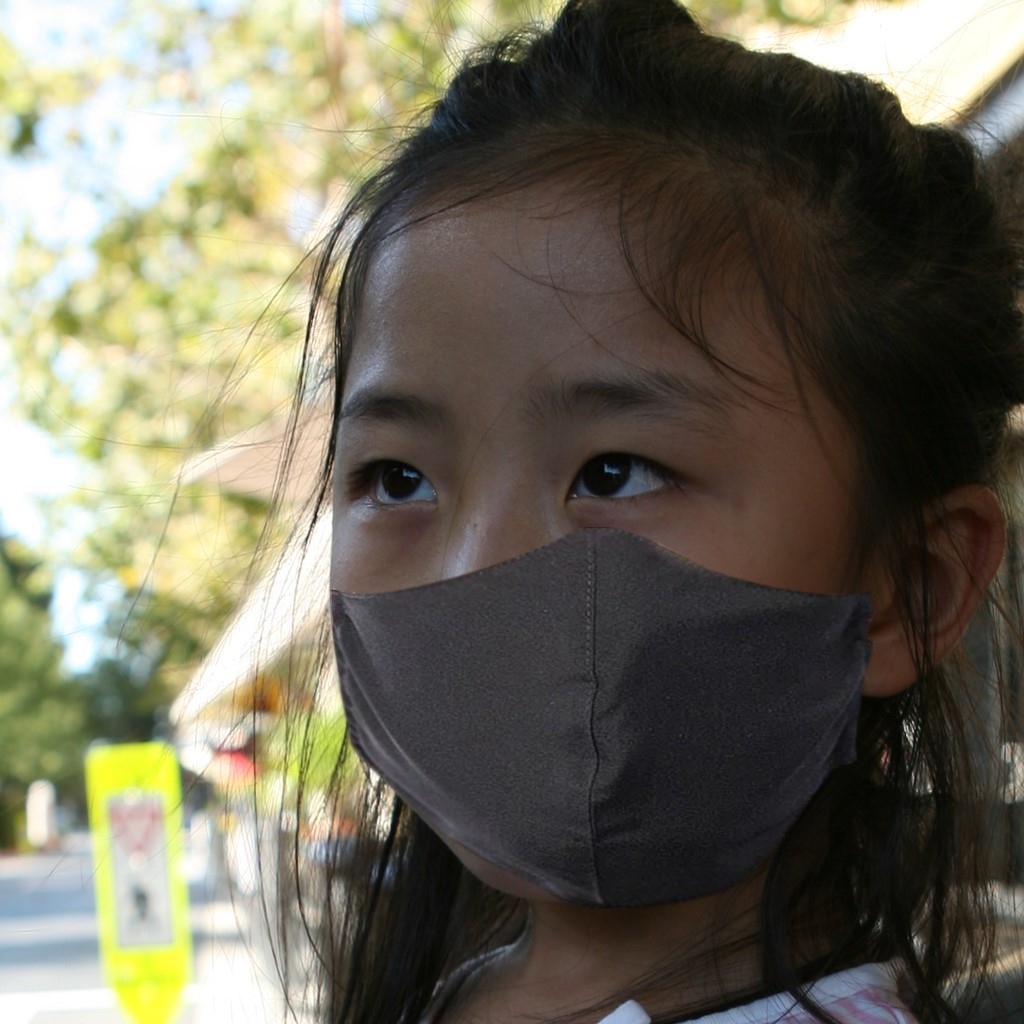con_mascara: (325, 118, 949, 893)
